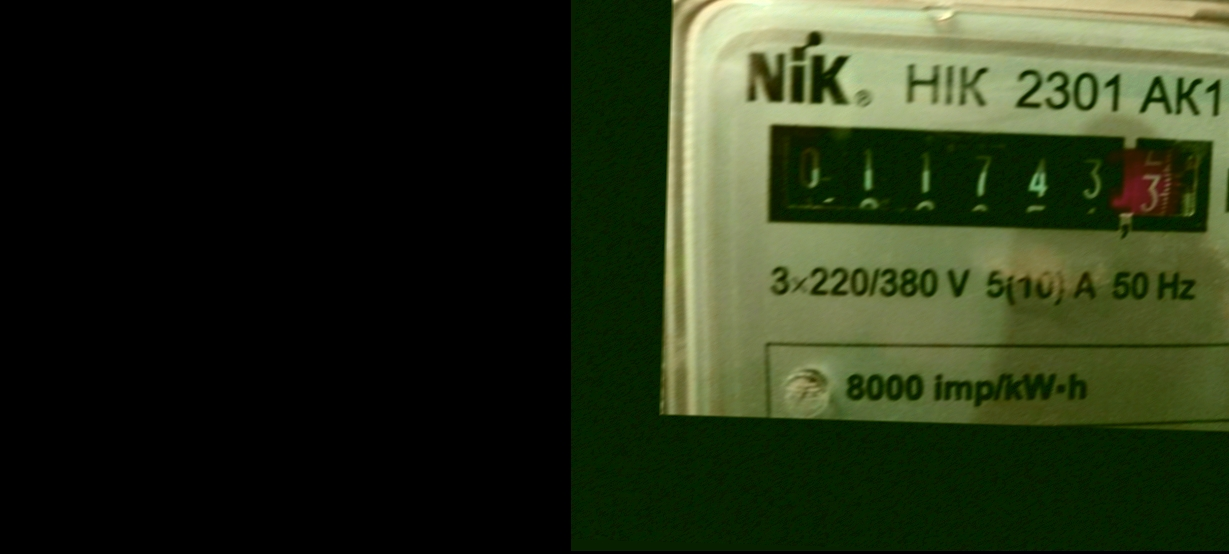0: (794, 141, 824, 189)
1: (914, 145, 936, 194), (859, 144, 877, 192)
3: (1078, 152, 1107, 200), (1137, 168, 1163, 213)
4: (1024, 150, 1053, 199)
7: (970, 149, 995, 198)
screen: (751, 112, 1220, 243)
